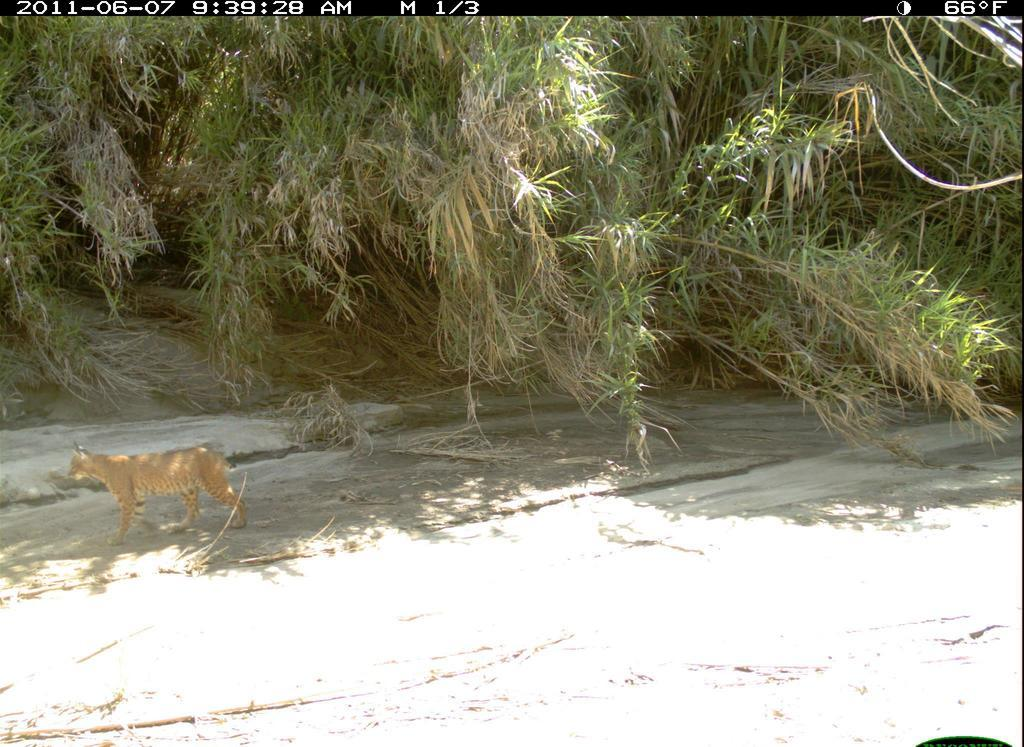bobcat: (62, 438, 254, 544)
